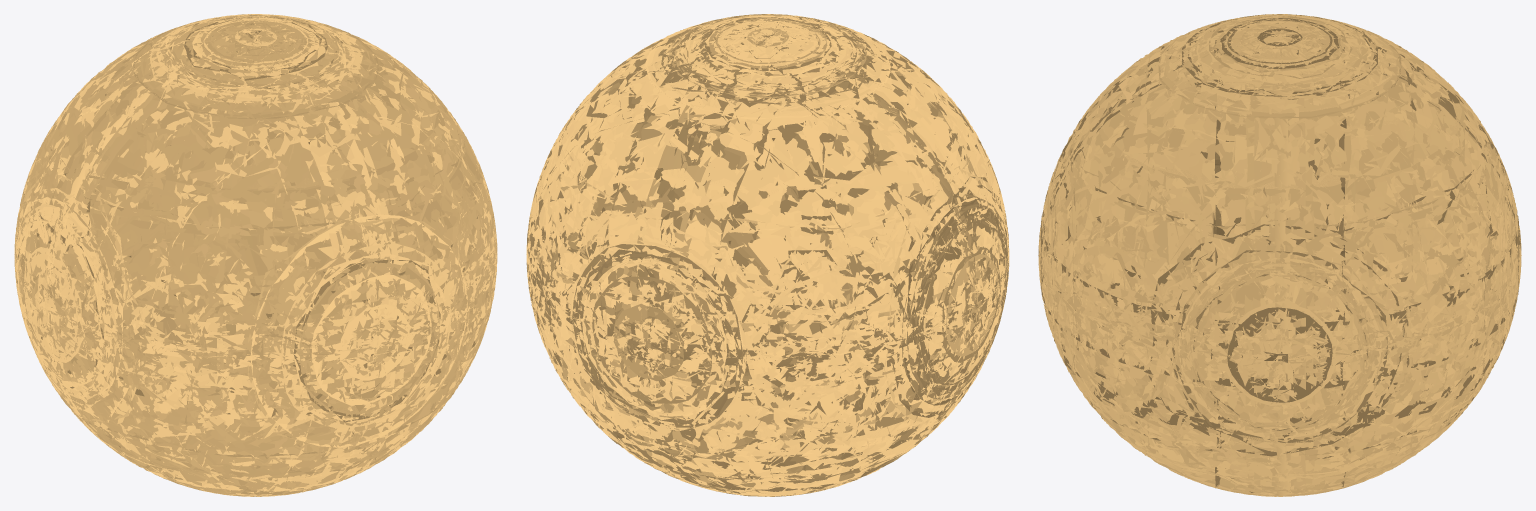
3 renders of one model, left to right at view 1: azimuth 30°, elevation 25°; view 2: azimuth 150°, elevation 25°; view 3: azimuth 270°, elevation 25°, orthographic.
Parts seen in each view (by area): view 1: 11-11-equipment; view 2: 11-11-equipment; view 3: 11-11-equipment.
Part boxes in pixels (bbox=[...]): 11-11-equipment: bbox=[14, 14, 497, 496]; 11-11-equipment: bbox=[526, 14, 1009, 496]; 11-11-equipment: bbox=[1038, 14, 1521, 496].
Bounding box in the file's own units: 2 × 2 × 2.
